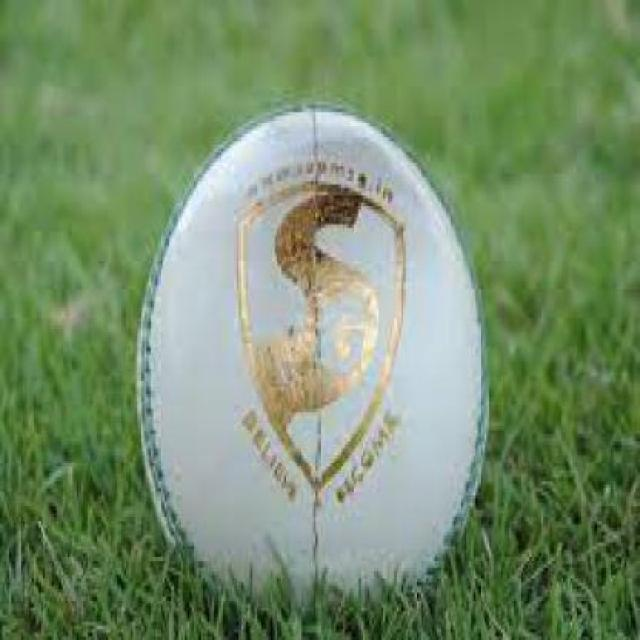ball: (106, 92, 509, 610)
